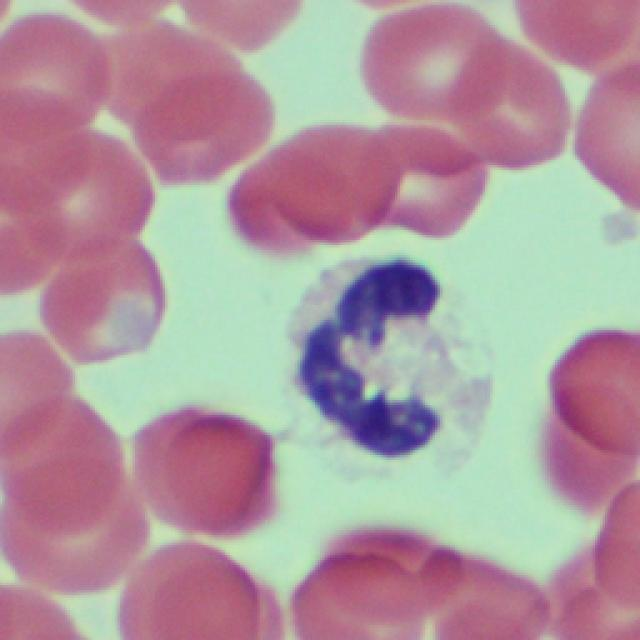RBC: (0, 387, 142, 602), (124, 36, 266, 196), (124, 398, 274, 547), (240, 129, 400, 263), (0, 108, 154, 244), (534, 323, 639, 518), (38, 225, 166, 378), (357, 4, 494, 143), (352, 113, 488, 235), (454, 33, 572, 172), (115, 538, 275, 640), (4, 15, 109, 136), (569, 57, 640, 210), (507, 0, 640, 75), (172, 0, 307, 57)
WBC: (282, 241, 493, 473)
